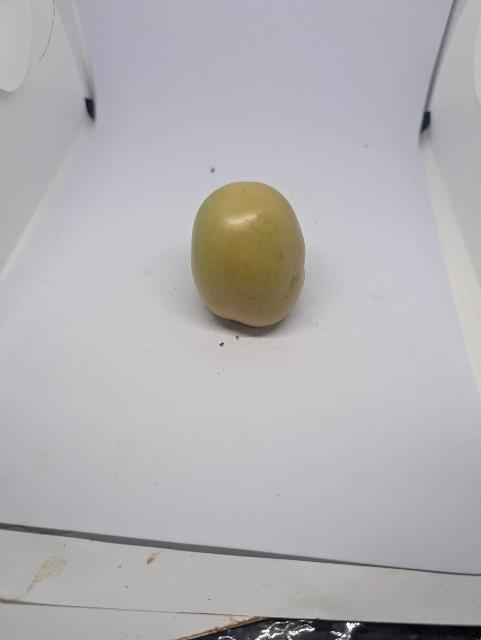breaker: (191, 181, 306, 327)
